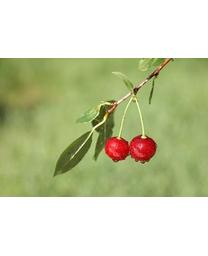cherry: (127, 133, 158, 163), (105, 135, 131, 160)
